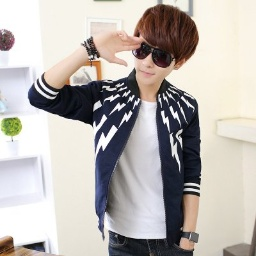face: (133, 5, 199, 85)
